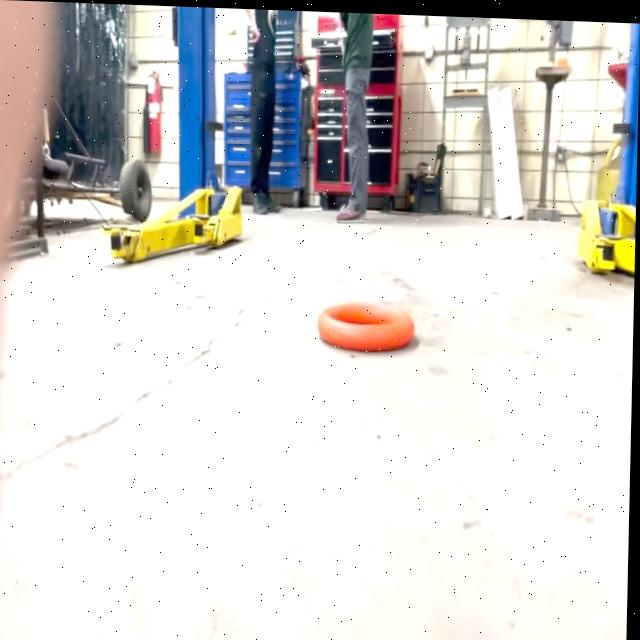note: (320, 296, 418, 352)
